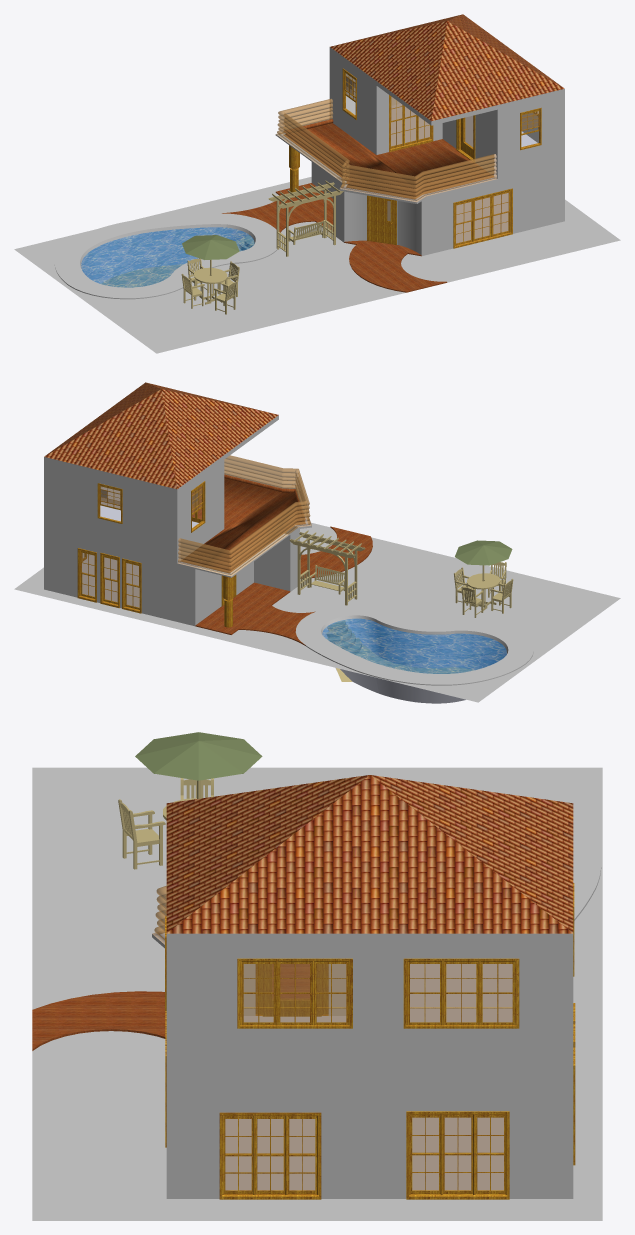
3 views of the same model, one above another, from view 1: azimuth 30°, elevation 25°; view 2: azimuth 150°, elevation 25°; view 3: azimuth 270°, elevation 25° (orthographic). The views are drawn at different scales.
Parts seen in each view (by area): view 1: Material3 (×4), Material2 (×7); view 2: Material3 (×4), Material2 (×7); view 3: Material3 (×4), Material2 (×6).
Part boxes in pixels (x1,y1,x2,y2): Material3 (×4): (14,14,620,353); Material2 (×7): (81,68,541,314); Material3 (×4): (14,382,620,702); Material2 (×7): (77,455,513,703); Material3 (×4): (32,767,602,1220); Material2 (×6): (118,732,575,1199).
Size of the model in its own units: 1018 by 446 by 541.
